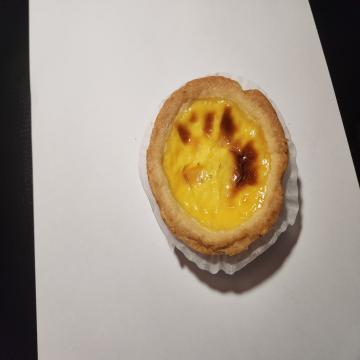EggTart: (144, 75, 290, 256)
